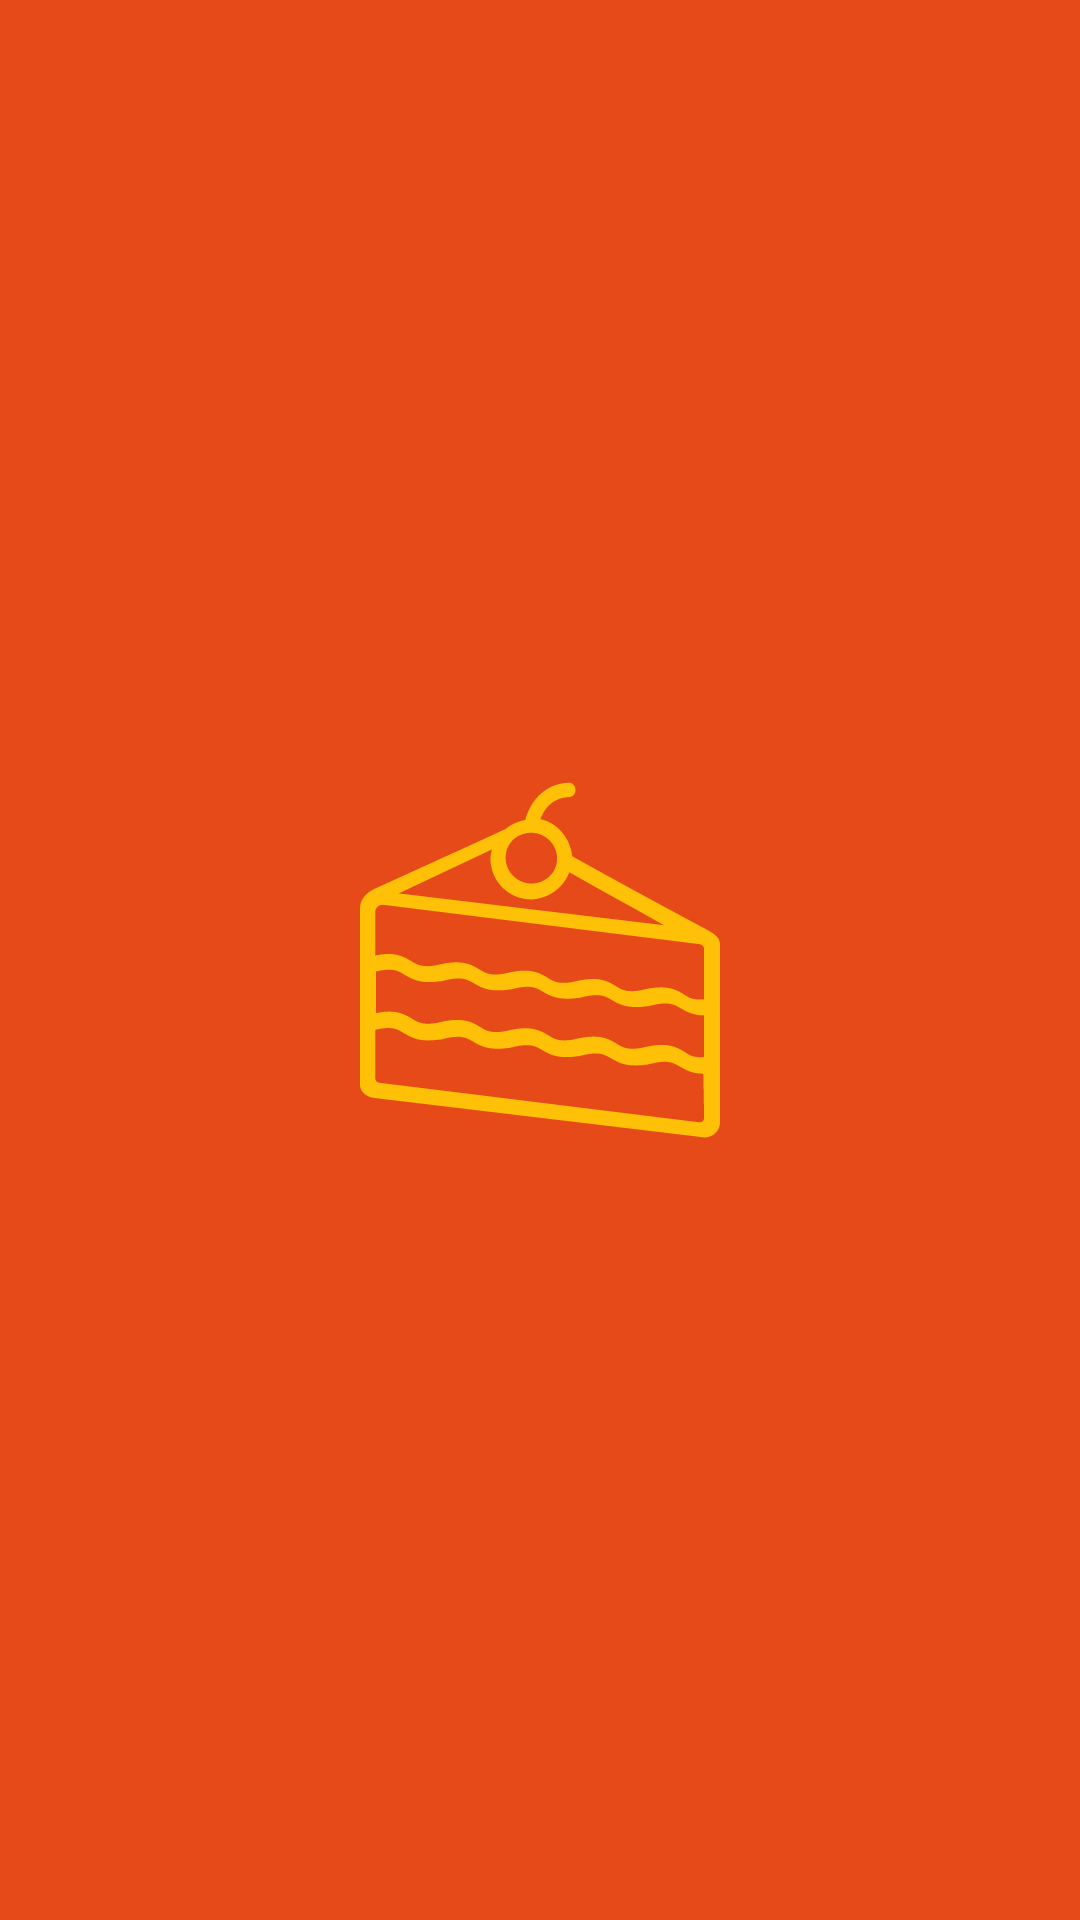

Where icons sit on this 1080*1920 app screen, as (x1, y1, x2, y2):
cake: (360, 782, 720, 1138)
